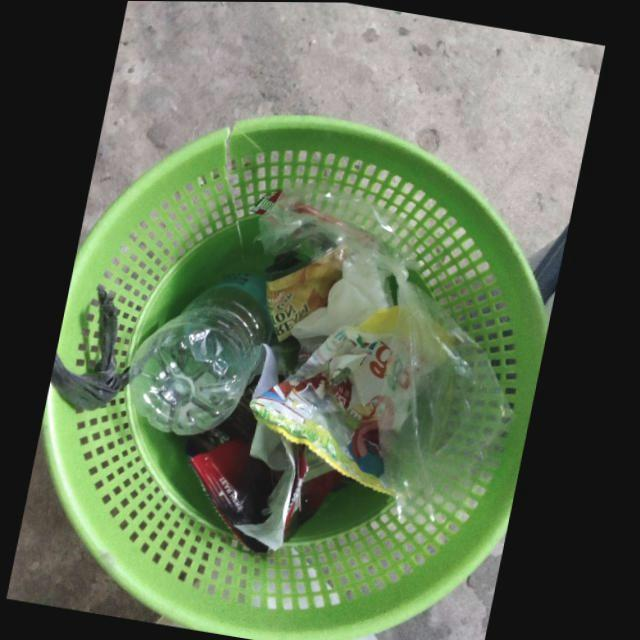food_wrapper: (253, 326, 416, 493), (193, 421, 346, 554), (268, 248, 347, 342)
plastic_bottle: (131, 276, 278, 436)
